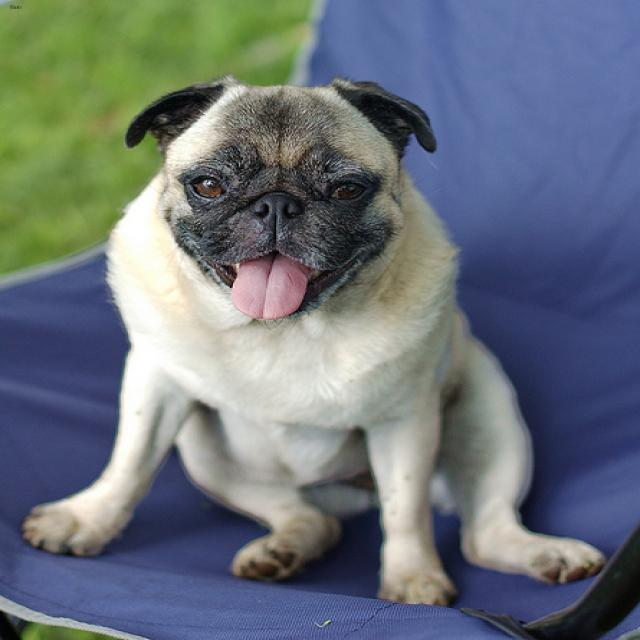dog-pug: (12, 72, 617, 618)
